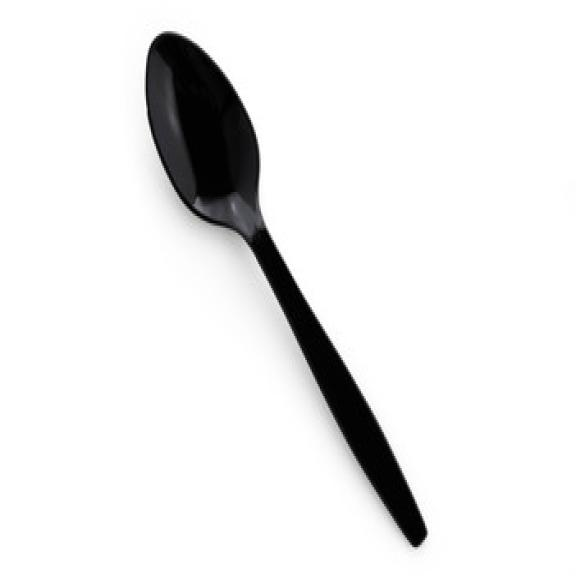Plastik: (147, 34, 426, 547)
